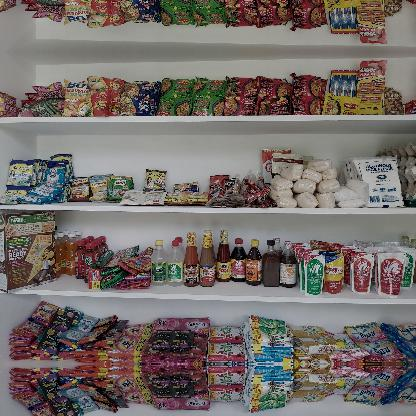Koko-Krunch: (0, 210, 59, 294)
